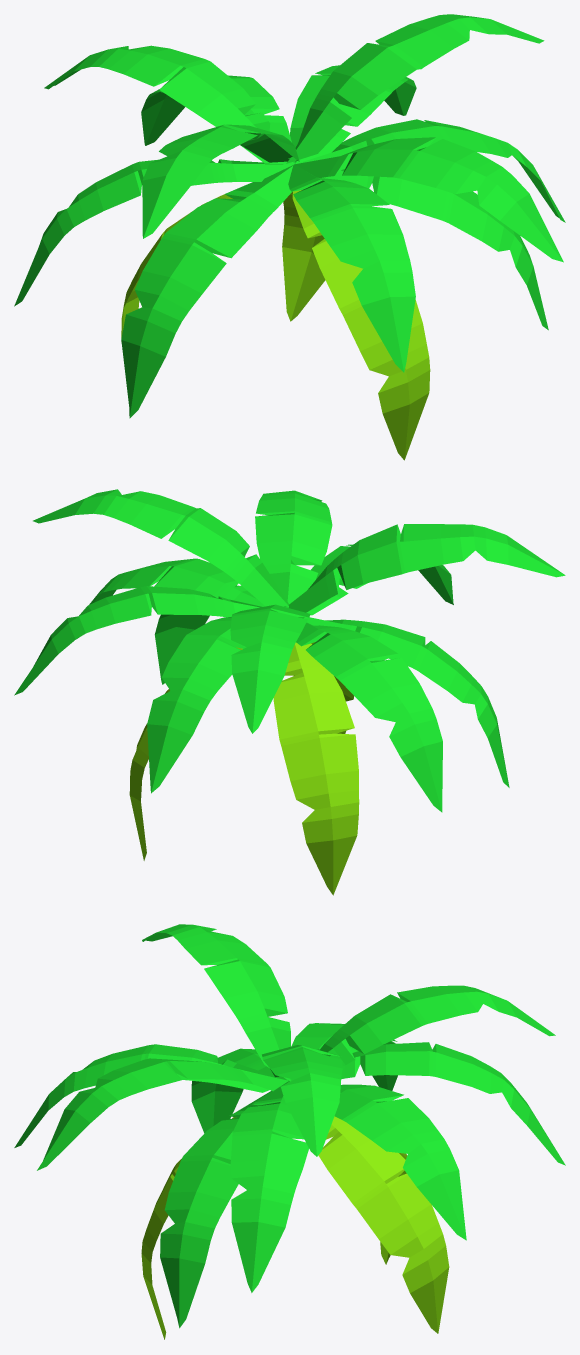
Rendered from palm_leaves.fbx.
The picture shows the model from 3 angles, top to bottom: view 1: azimuth 30°, elevation 25°; view 2: azimuth 150°, elevation 25°; view 3: azimuth 270°, elevation 25°; orthographic projection. The views are drawn at different scales.
Visible parts, largest first — view 1: Foglie.001; view 2: Foglie.001; view 3: Foglie.001.
Boxes of the visible parts, x1,y1,x2,y2 form: Foglie.001: (14,14,565,460); Foglie.001: (14,489,565,895); Foglie.001: (14,924,565,1339).
Bounding box in the file's own units: 285 × 194 × 296.
